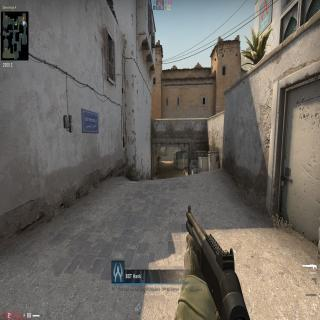T-Head: (158, 154, 160, 158)
